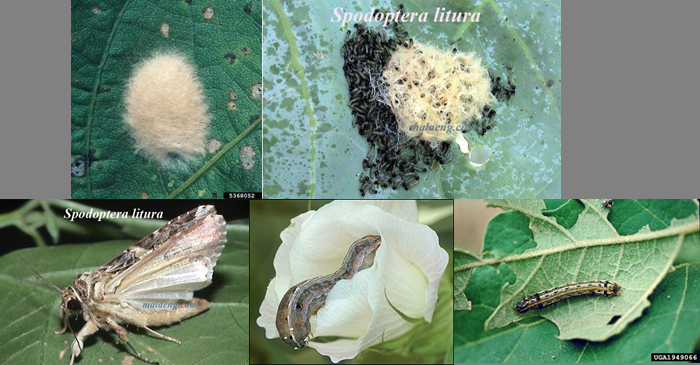Armyworm: (511, 266, 631, 321)
